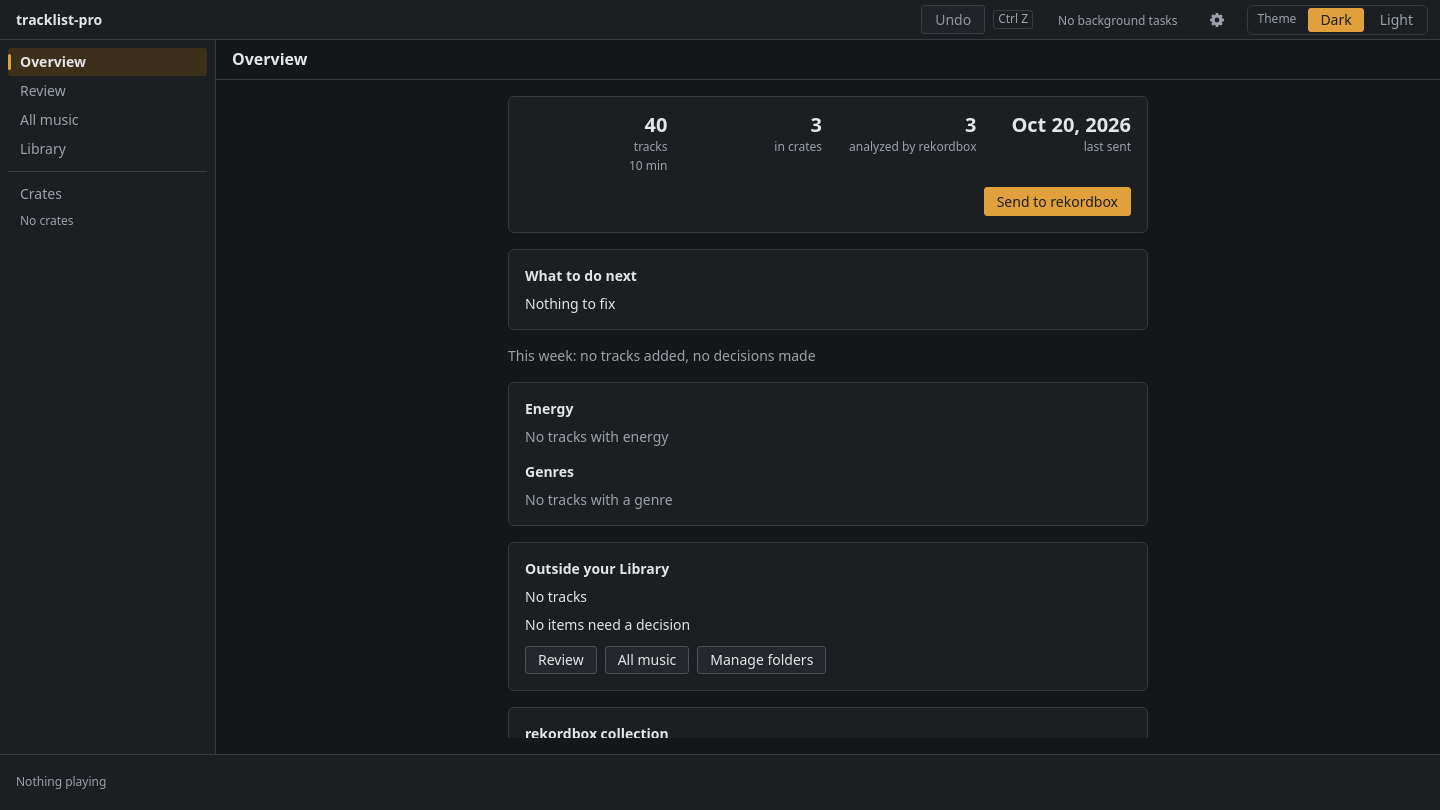
Scenario: a number that is a door › opens the Library with a chip, and as many tracks as the number says: inCrates number
Click the link "3 in crates".
click(798, 146)  # box [774, 111, 822, 155]
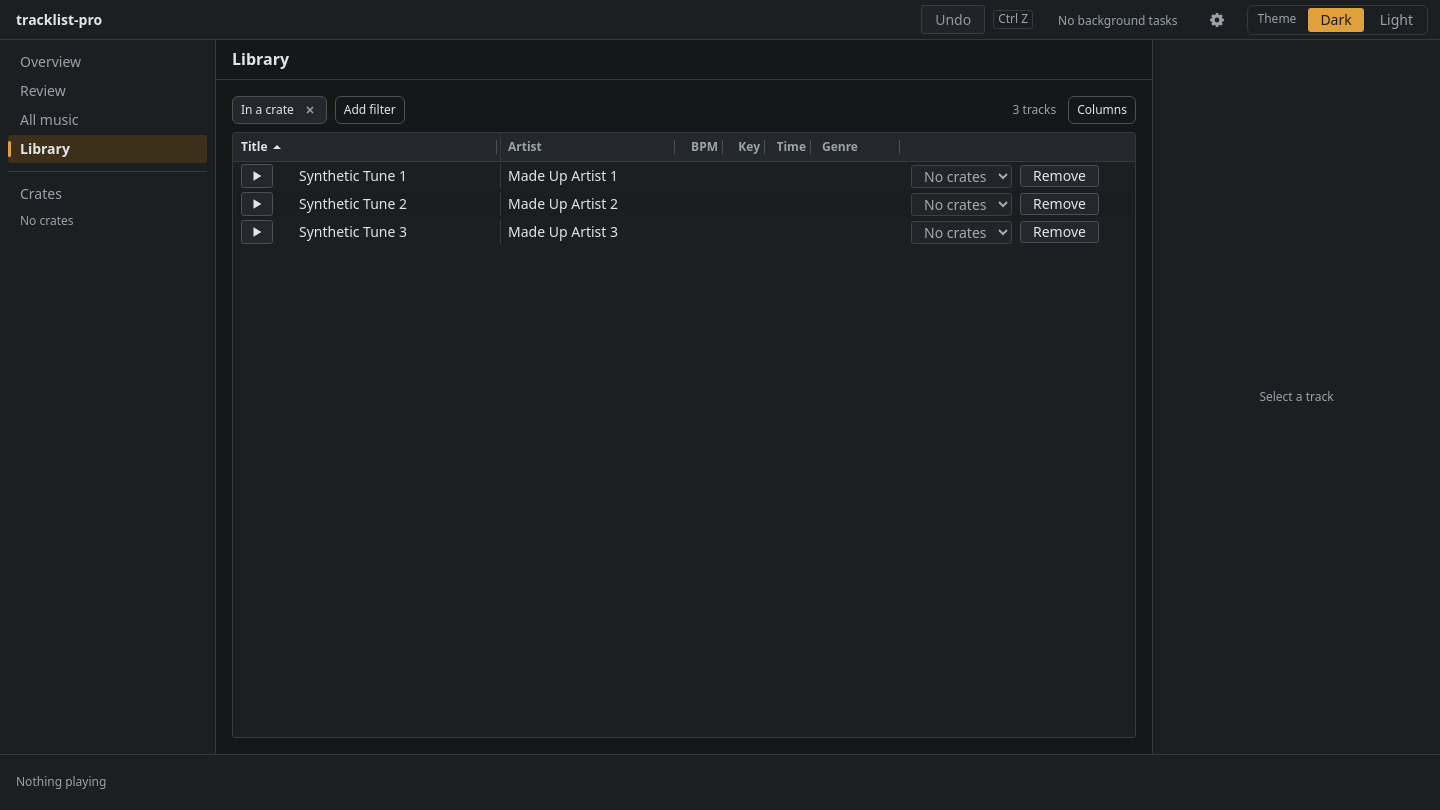
Expected: the text "In a crate" is shown, [241, 100, 294, 120]
